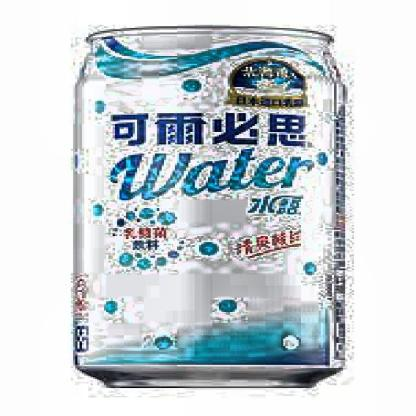Can: (67, 19, 359, 409)
